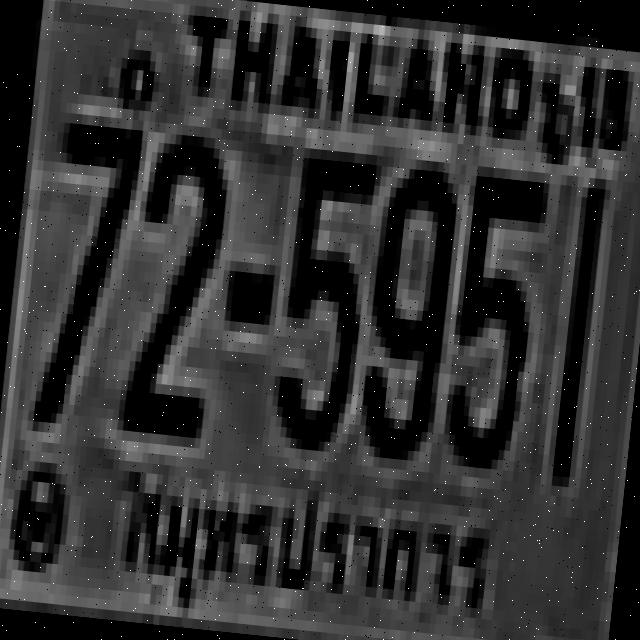1: (546, 176, 600, 477)
2: (122, 134, 231, 440)
5: (268, 150, 376, 446), (442, 170, 545, 466)
7: (29, 115, 144, 432)
9: (356, 165, 458, 461)
SamutPrakan: (108, 455, 508, 640)
